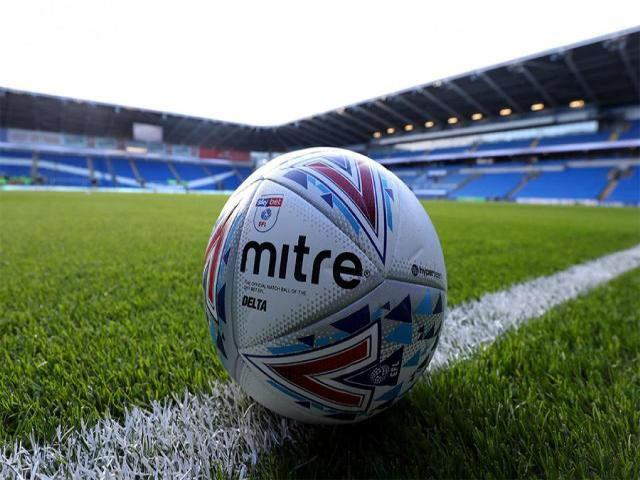round ball: (204, 147, 446, 424)
